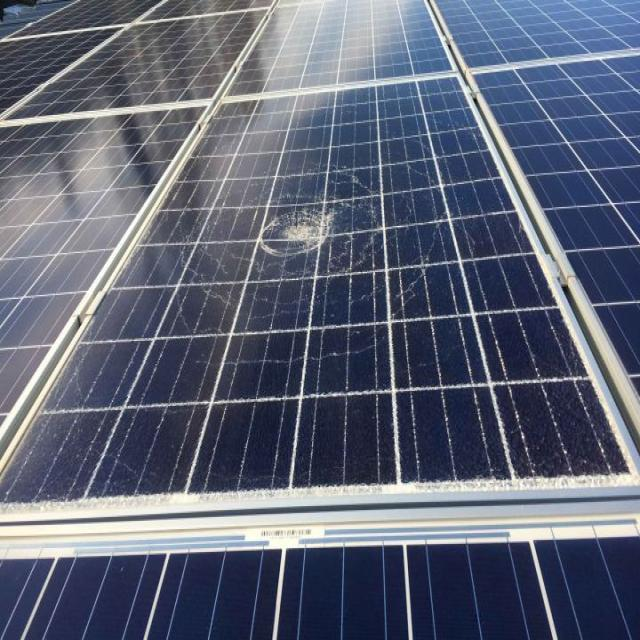Physical-damage: (193, 151, 387, 328)
